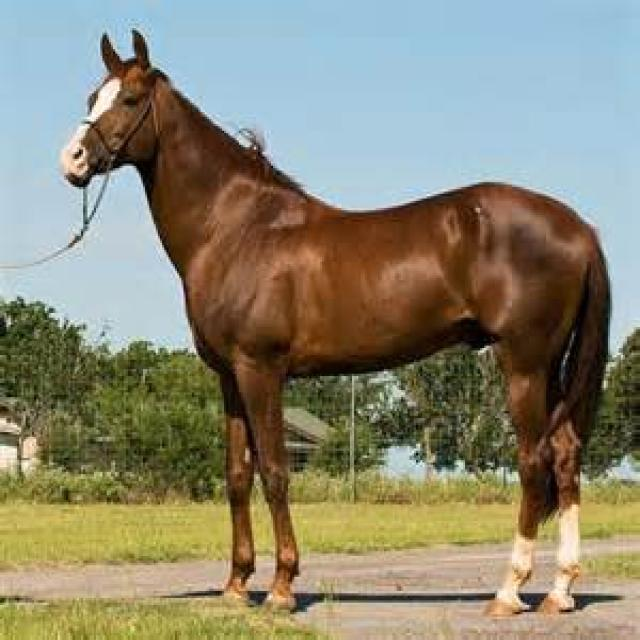horse: (58, 30, 612, 617)
